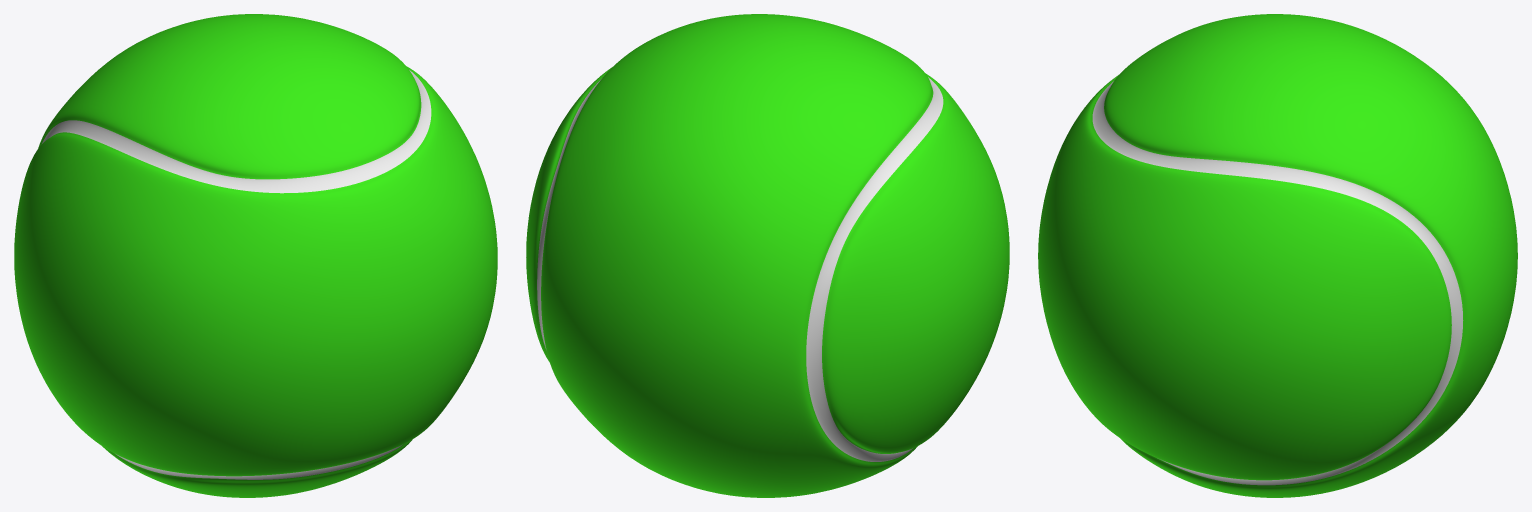
Rendered from tennis ball.fbx.
The picture shows the model from 3 angles, left to right: view 1: azimuth 30°, elevation 25°; view 2: azimuth 150°, elevation 25°; view 3: azimuth 270°, elevation 25°; orthographic projection.
Parts seen in each view (by area): view 1: Cube; view 2: Cube; view 3: Cube.
Boxes of the visible parts, x1,y1,x2,y2 form: Cube: (14, 14, 497, 497); Cube: (526, 14, 1009, 497); Cube: (1038, 14, 1517, 497).
Size of the model in its own units: 327 by 327 by 327.
